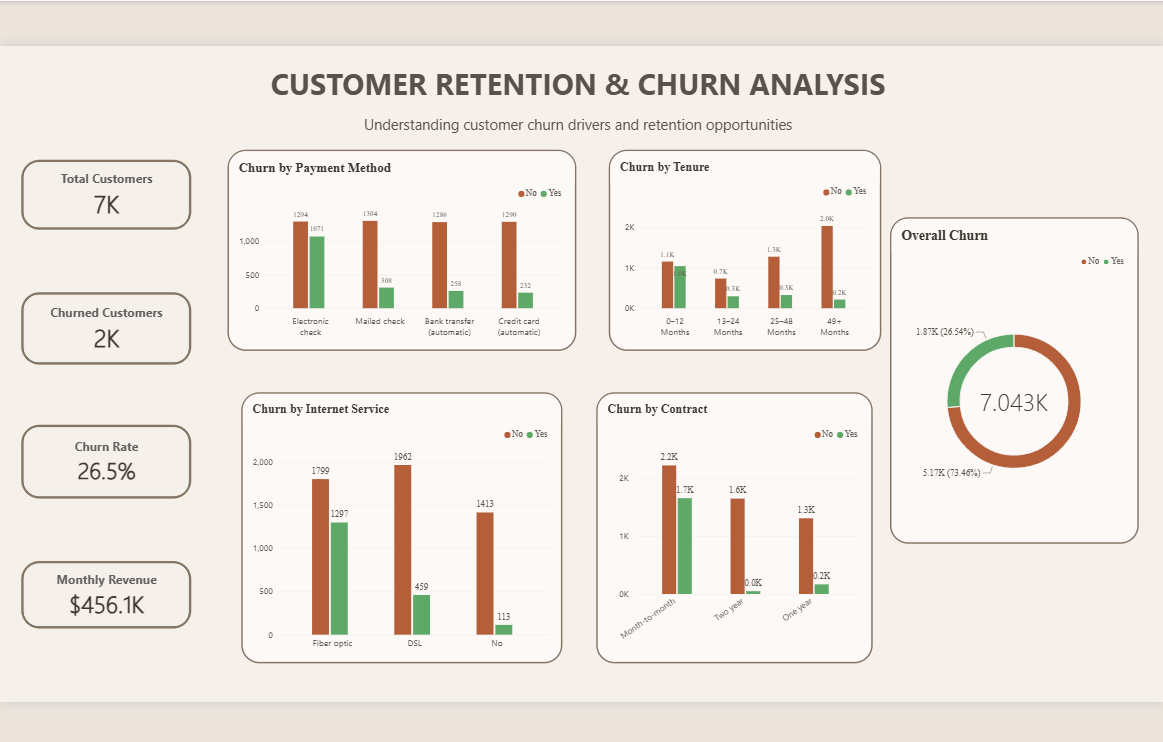

What the dashboard file says about the page in this screenshot:
{"tool":"powerbi","page":{"name":"Page 1","canvas":[1920,1080],"ordinal":0},"visuals":[{"type":"cardVisual","fields":{"Data":["WA_Fn-UseC_-Telco-Customer-Churn.Total Customers"]},"box":[35,187.3,279.9,115.3],"z":0},{"type":"cardVisual","fields":{"Data":["WA_Fn-UseC_-Telco-Customer-Churn.Churned Customers"]},"box":[35,405.5,279.9,119.4],"z":1},{"type":"cardVisual","fields":{"Data":["WA_Fn-UseC_-Telco-Customer-Churn.Churn Rate"]},"box":[35,623.7,279.9,121.4],"z":2},{"type":"clusteredColumnChart","title":"Churn by Contract","fields":{"Category":["WA_Fn-UseC_-Telco-Customer-Churn.Contract"],"Series":["WA_Fn-UseC_-Telco-Customer-Churn.Churn"],"Y":["CountNonNull(WA_Fn-UseC_-Telco-Customer-Churn.Churn)"]},"box":[981.8,570.2,454.9,446.7],"z":3},{"type":"cardVisual","fields":{"Data":["WA_Fn-UseC_-Telco-Customer-Churn.Monthly Revenue"]},"box":[35,848,279.9,111.1],"z":4},{"type":"clusteredColumnChart","title":"Churn by Internet Service","fields":{"Category":["WA_Fn-UseC_-Telco-Customer-Churn.InternetService"],"Series":["WA_Fn-UseC_-Telco-Customer-Churn.Churn"],"Y":["CountNonNull(WA_Fn-UseC_-Telco-Customer-Churn.Churn)"]},"box":[397.3,570.2,529,446.7],"z":5},{"type":"clusteredColumnChart","title":"Churn by Payment Method","fields":{"Category":["WA_Fn-UseC_-Telco-Customer-Churn.PaymentMethod"],"Series":["WA_Fn-UseC_-Telco-Customer-Churn.Churn"],"Y":["CountNonNull(WA_Fn-UseC_-Telco-Customer-Churn.Churn)"]},"box":[374.6,170.8,574.3,331.4],"z":6},{"type":"clusteredColumnChart","title":"Churn by Tenure","fields":{"Category":["WA_Fn-UseC_-Telco-Customer-Churn.Tenure Group"],"Series":["WA_Fn-UseC_-Telco-Customer-Churn.Churn"],"Y":["CountNonNull(WA_Fn-UseC_-Telco-Customer-Churn.Churn)"]},"box":[1002.4,170.8,448.7,331.4],"z":7},{"type":"donutChart","title":"Overall Churn","fields":{"Category":["WA_Fn-UseC_-Telco-Customer-Churn.Churn"],"Y":["CountNonNull(WA_Fn-UseC_-Telco-Customer-Churn.customerID)"]},"box":[1465.5,282,409.6,537.2],"z":8},{"type":"textbox","box":[0,28.8,1904,123.5],"z":9}]}

Visuals, with their boxes in screenshot pixels (x1, y1, x2, y2):
cardVisual - WA_Fn-UseC_-Telco-Customer-Churn.Total Customers: (24,166,191,235)
cardVisual - WA_Fn-UseC_-Telco-Customer-Churn.Churned Customers: (24,297,191,368)
cardVisual - WA_Fn-UseC_-Telco-Customer-Churn.Churn Rate: (24,427,191,500)
"Churn by Contract" clusteredColumnChart: (590,395,861,662)
cardVisual - WA_Fn-UseC_-Telco-Customer-Churn.Monthly Revenue: (24,561,191,627)
"Churn by Internet Service" clusteredColumnChart: (240,395,556,662)
"Churn by Payment Method" clusteredColumnChart: (227,157,570,355)
"Churn by Tenure" clusteredColumnChart: (602,157,870,355)
"Overall Churn" donutChart: (878,223,1123,544)
textbox: (3,72,1140,145)
